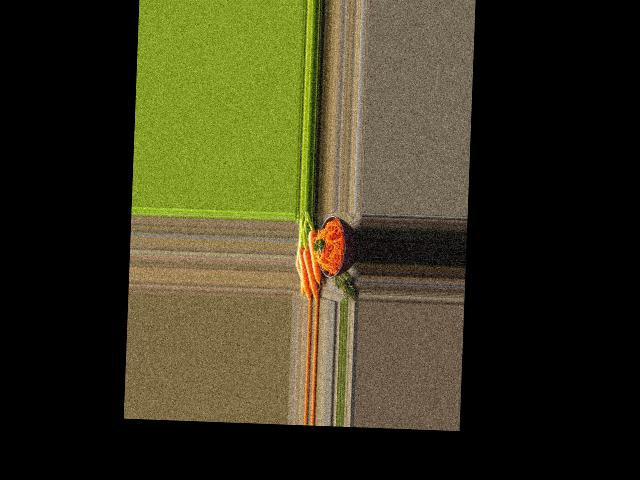carrot: (306, 226, 323, 287)
